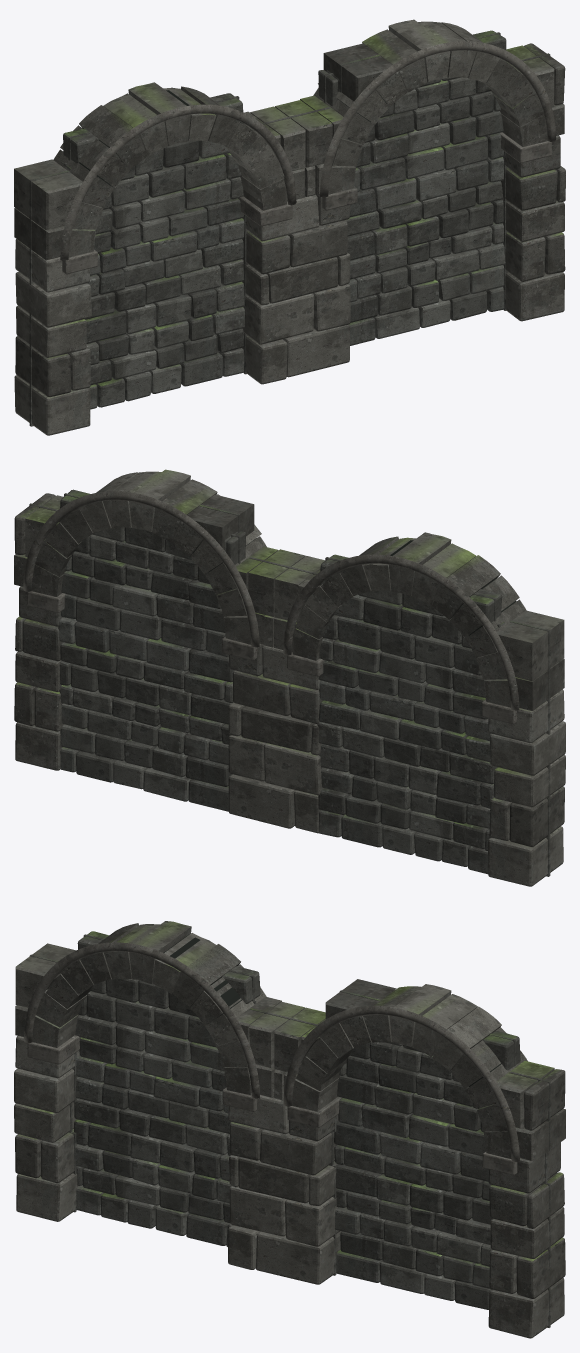
The model's file is ER_Mur_Arcature_Aveugle_8m.gltf.
3 renders of one model, top to bottom at view 1: azimuth 30°, elevation 25°; view 2: azimuth 150°, elevation 25°; view 3: azimuth 330°, elevation 25°, orthographic.
Parts seen in each view (by area): view 1: ER_Mur_Arcature_Aveugle_8m_P.001, ER_Mur_Arcature_Aveugle_8m_PS.001, ER_Mur_Arcature_Aveugle_8m_MOUL.001; view 2: ER_Mur_Arcature_Aveugle_8m_PS.001, ER_Mur_Arcature_Aveugle_8m_P.001, ER_Mur_Arcature_Aveugle_8m_MOUL.001; view 3: ER_Mur_Arcature_Aveugle_8m_P.001, ER_Mur_Arcature_Aveugle_8m_PS.001, ER_Mur_Arcature_Aveugle_8m_MOUL.001, ER_Mur_Arcature_Aveugle_8m_NOIR.001.
Part boxes in pixels (box(x1,y1,x2,y2)): ER_Mur_Arcature_Aveugle_8m_P.001: box(14, 19, 565, 435); ER_Mur_Arcature_Aveugle_8m_PS.001: box(29, 30, 550, 426); ER_Mur_Arcature_Aveugle_8m_MOUL.001: box(60, 41, 556, 274); ER_Mur_Arcature_Aveugle_8m_PS.001: box(29, 489, 550, 876); ER_Mur_Arcature_Aveugle_8m_P.001: box(14, 469, 565, 886); ER_Mur_Arcature_Aveugle_8m_MOUL.001: box(23, 491, 519, 724); ER_Mur_Arcature_Aveugle_8m_P.001: box(14, 921, 565, 1338); ER_Mur_Arcature_Aveugle_8m_PS.001: box(30, 931, 550, 1327); ER_Mur_Arcature_Aveugle_8m_MOUL.001: box(23, 942, 519, 1175); ER_Mur_Arcature_Aveugle_8m_NOIR.001: box(164, 934, 500, 1086).
Bounding box in the file's own units: 8.01 × 4.42 × 1.08.
4 materials, 3 textured.
